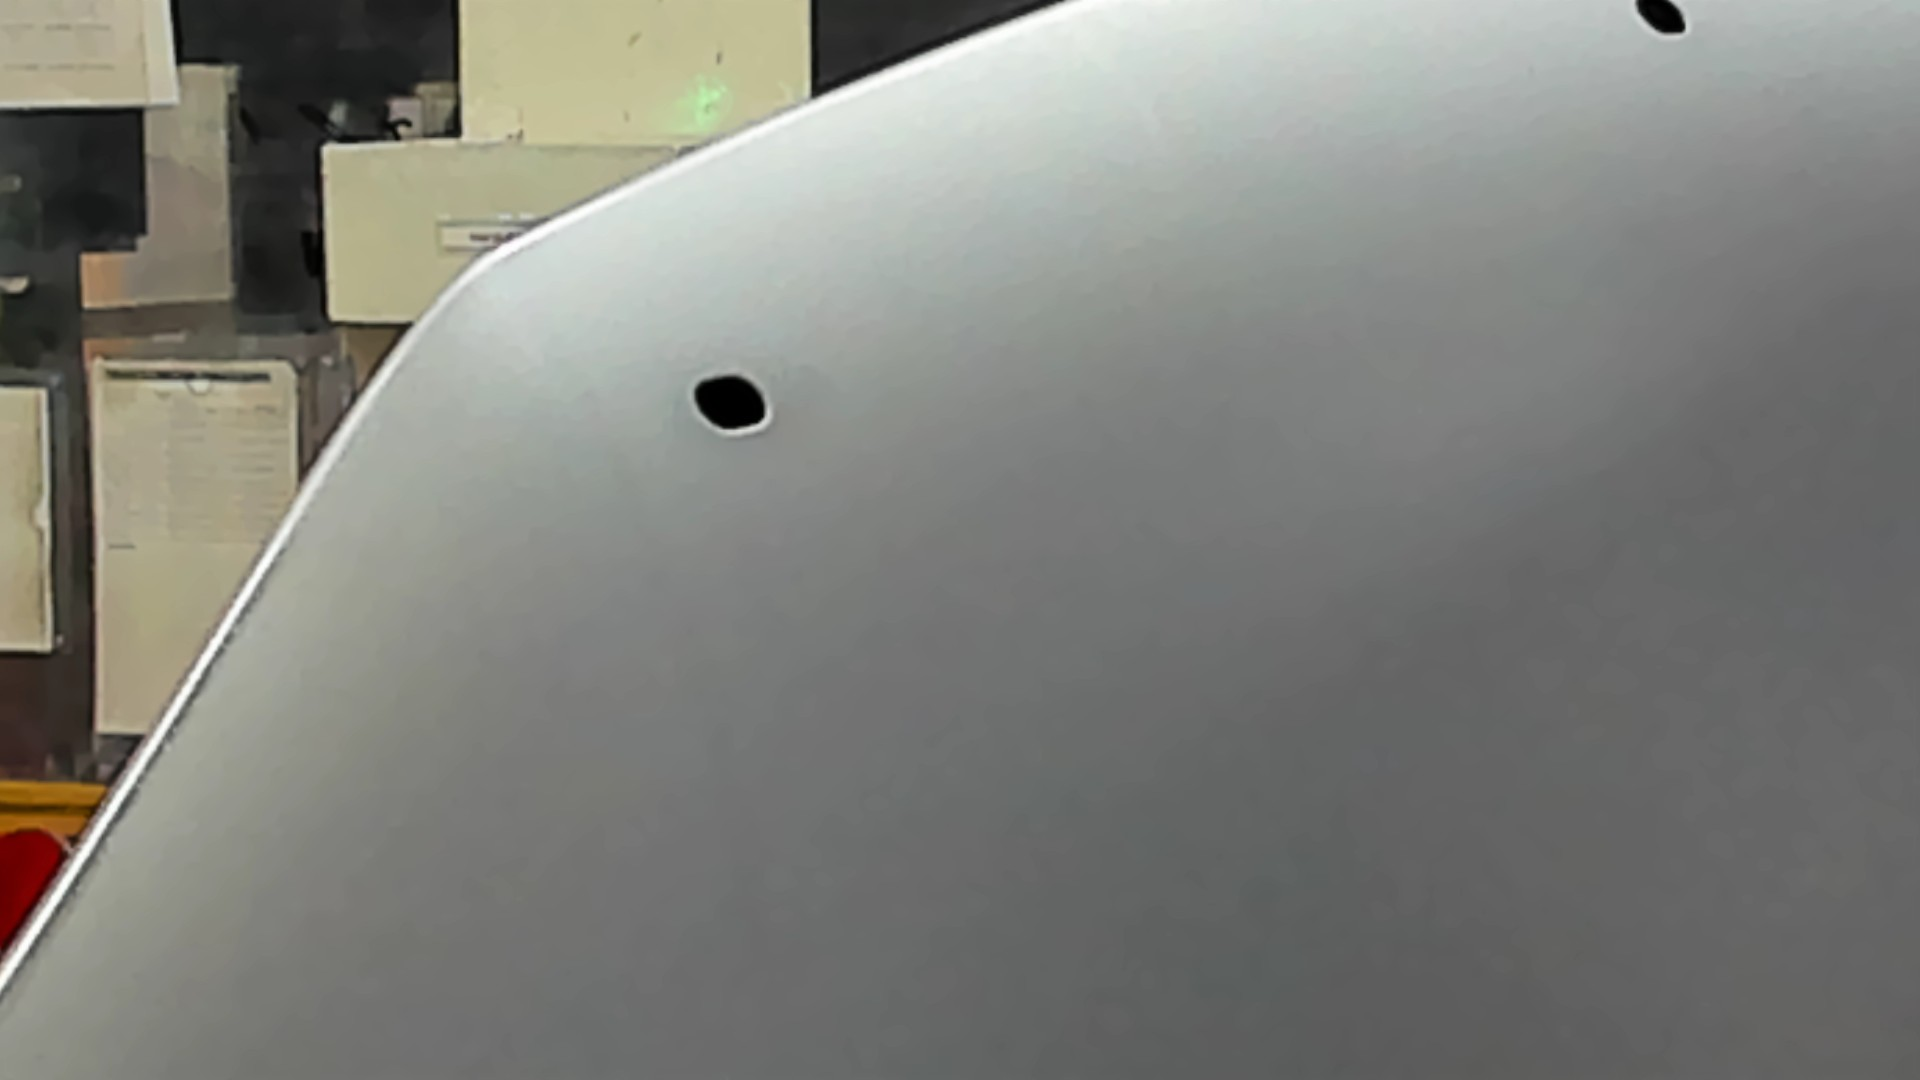chico: (669, 365, 791, 440), (1625, 1, 1710, 54)
